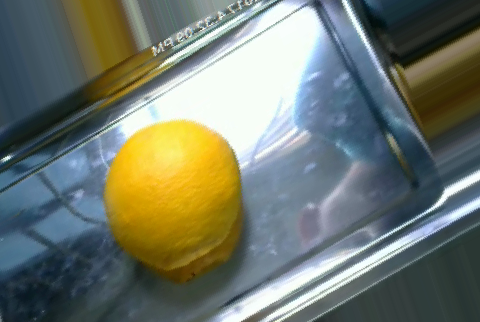Orange: (104, 120, 242, 271)
